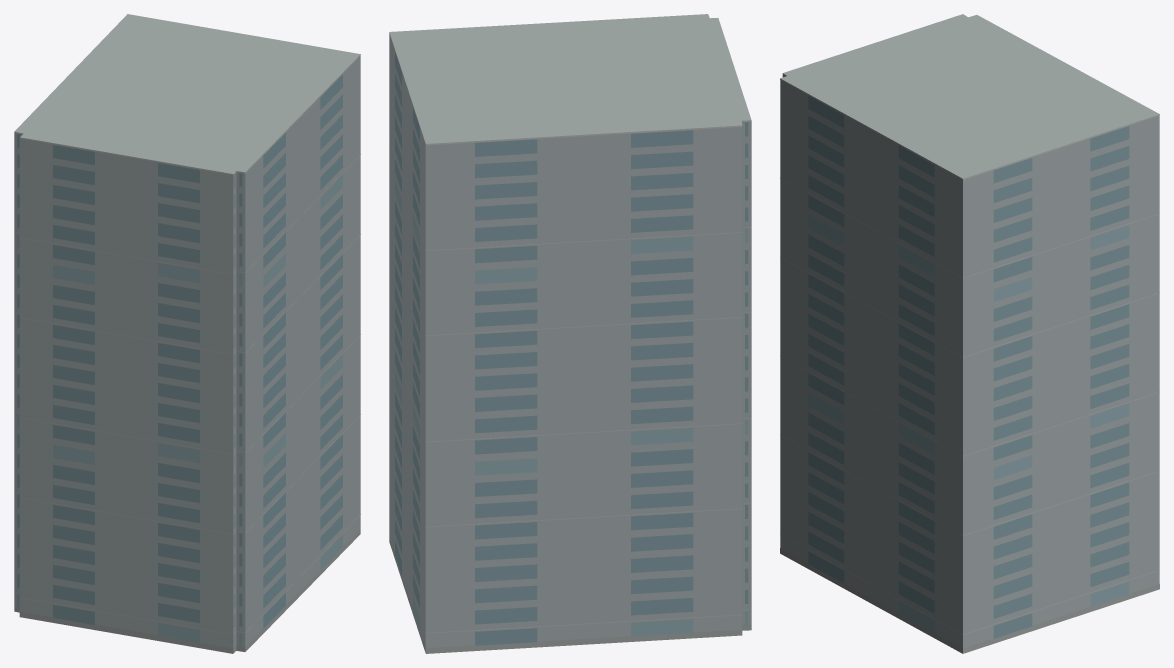
Rendered from survey-upis-32784877.glb.
3 views of the same model, side by side, from view 1: azimuth 30°, elevation 25°; view 2: azimuth 150°, elevation 25°; view 3: azimuth 270°, elevation 25° (orthographic). The views are drawn at different scales.
Parts seen in each view (by area): view 1: survey-upis-32784877.tmp; view 2: survey-upis-32784877.tmp; view 3: survey-upis-32784877.tmp.
Boxes of the visible parts, x1,y1,x2,y2 form: survey-upis-32784877.tmp: (14, 14, 360, 653); survey-upis-32784877.tmp: (389, 14, 751, 653); survey-upis-32784877.tmp: (780, 14, 1159, 653).
Bounding box in the file's own units: 65.59 × 88.18 × 63.87.
